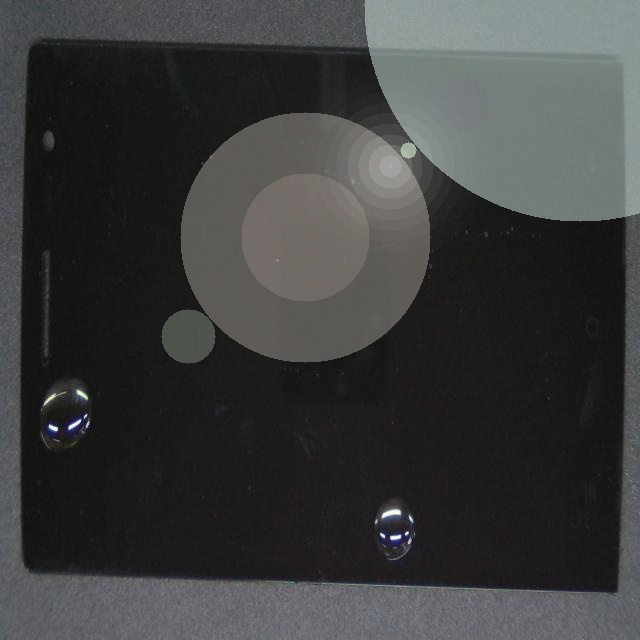oil: (226, 285, 621, 640), (67, 201, 133, 577)
